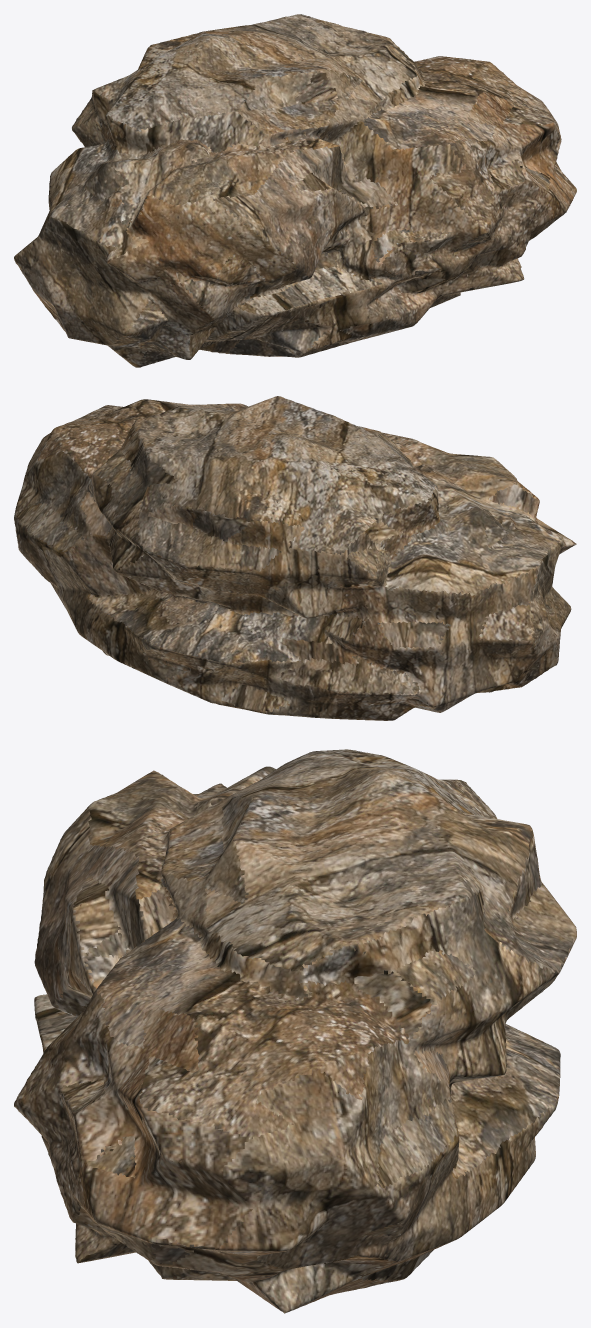
Rendered from cracked-boulder-v01.glb.
3 renders of one model, top to bottom at view 1: azimuth 30°, elevation 25°; view 2: azimuth 150°, elevation 25°; view 3: azimuth 270°, elevation 25°, orthographic. The views are drawn at different scales.
Parts seen in each view (by area): view 1: cracked-boulder-v01 detailed; view 2: cracked-boulder-v01 detailed; view 3: cracked-boulder-v01 detailed.
Part boxes in pixels (bbox=[...]): cracked-boulder-v01 detailed: bbox=[14, 14, 576, 367]; cracked-boulder-v01 detailed: bbox=[14, 396, 576, 720]; cracked-boulder-v01 detailed: bbox=[14, 749, 576, 1313].
Size of the model in its own units: 3.47 by 1.75 by 2.18.
Materials: 1 (1 with a texture image).
